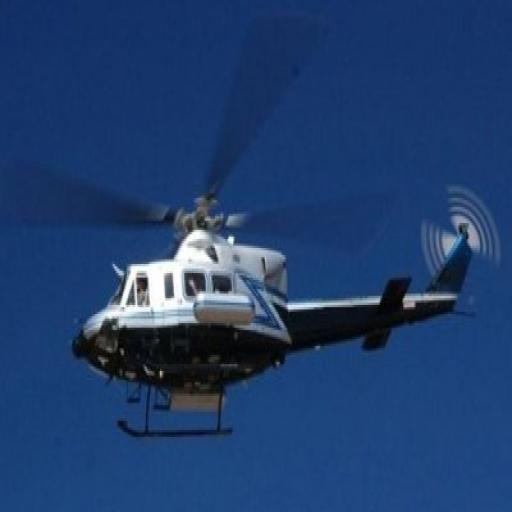helicopter: (3, 40, 502, 433)
